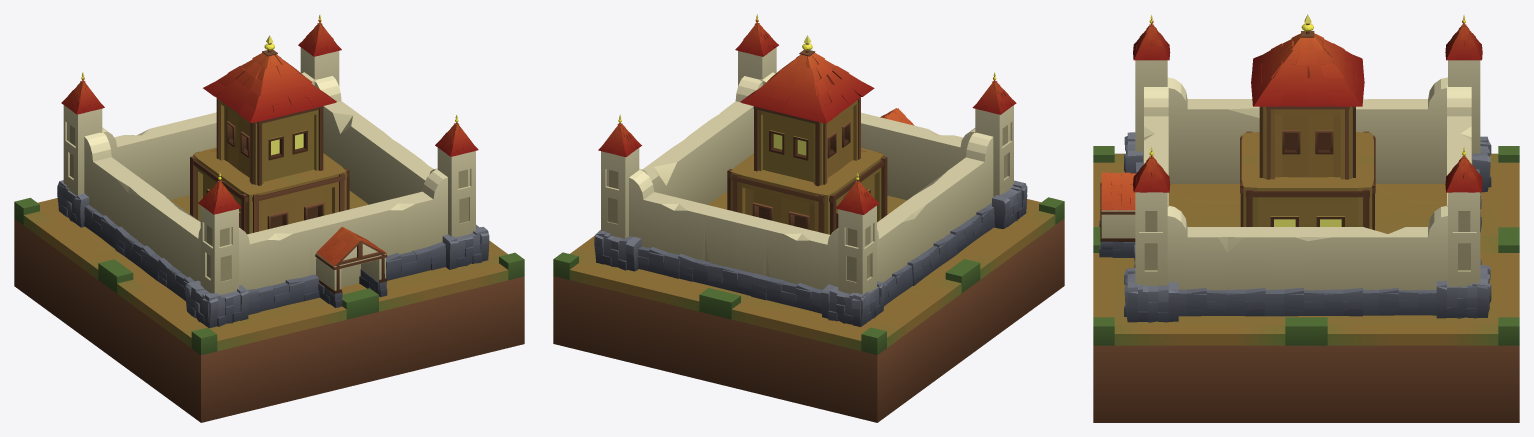
3 renders of one model, left to right at view 1: azimuth 30°, elevation 25°; view 2: azimuth 150°, elevation 25°; view 3: azimuth 270°, elevation 25°, orthographic. The views are drawn at different scales.
Visible parts, largest first — view 1: chateau; view 2: chateau; view 3: chateau.
Boxes of the visible parts, bbox=[...] form: chateau: bbox=[14, 14, 524, 422]; chateau: bbox=[553, 14, 1064, 422]; chateau: bbox=[1093, 14, 1519, 422].
Size of the model in its own units: 1000 by 826 by 1000.
